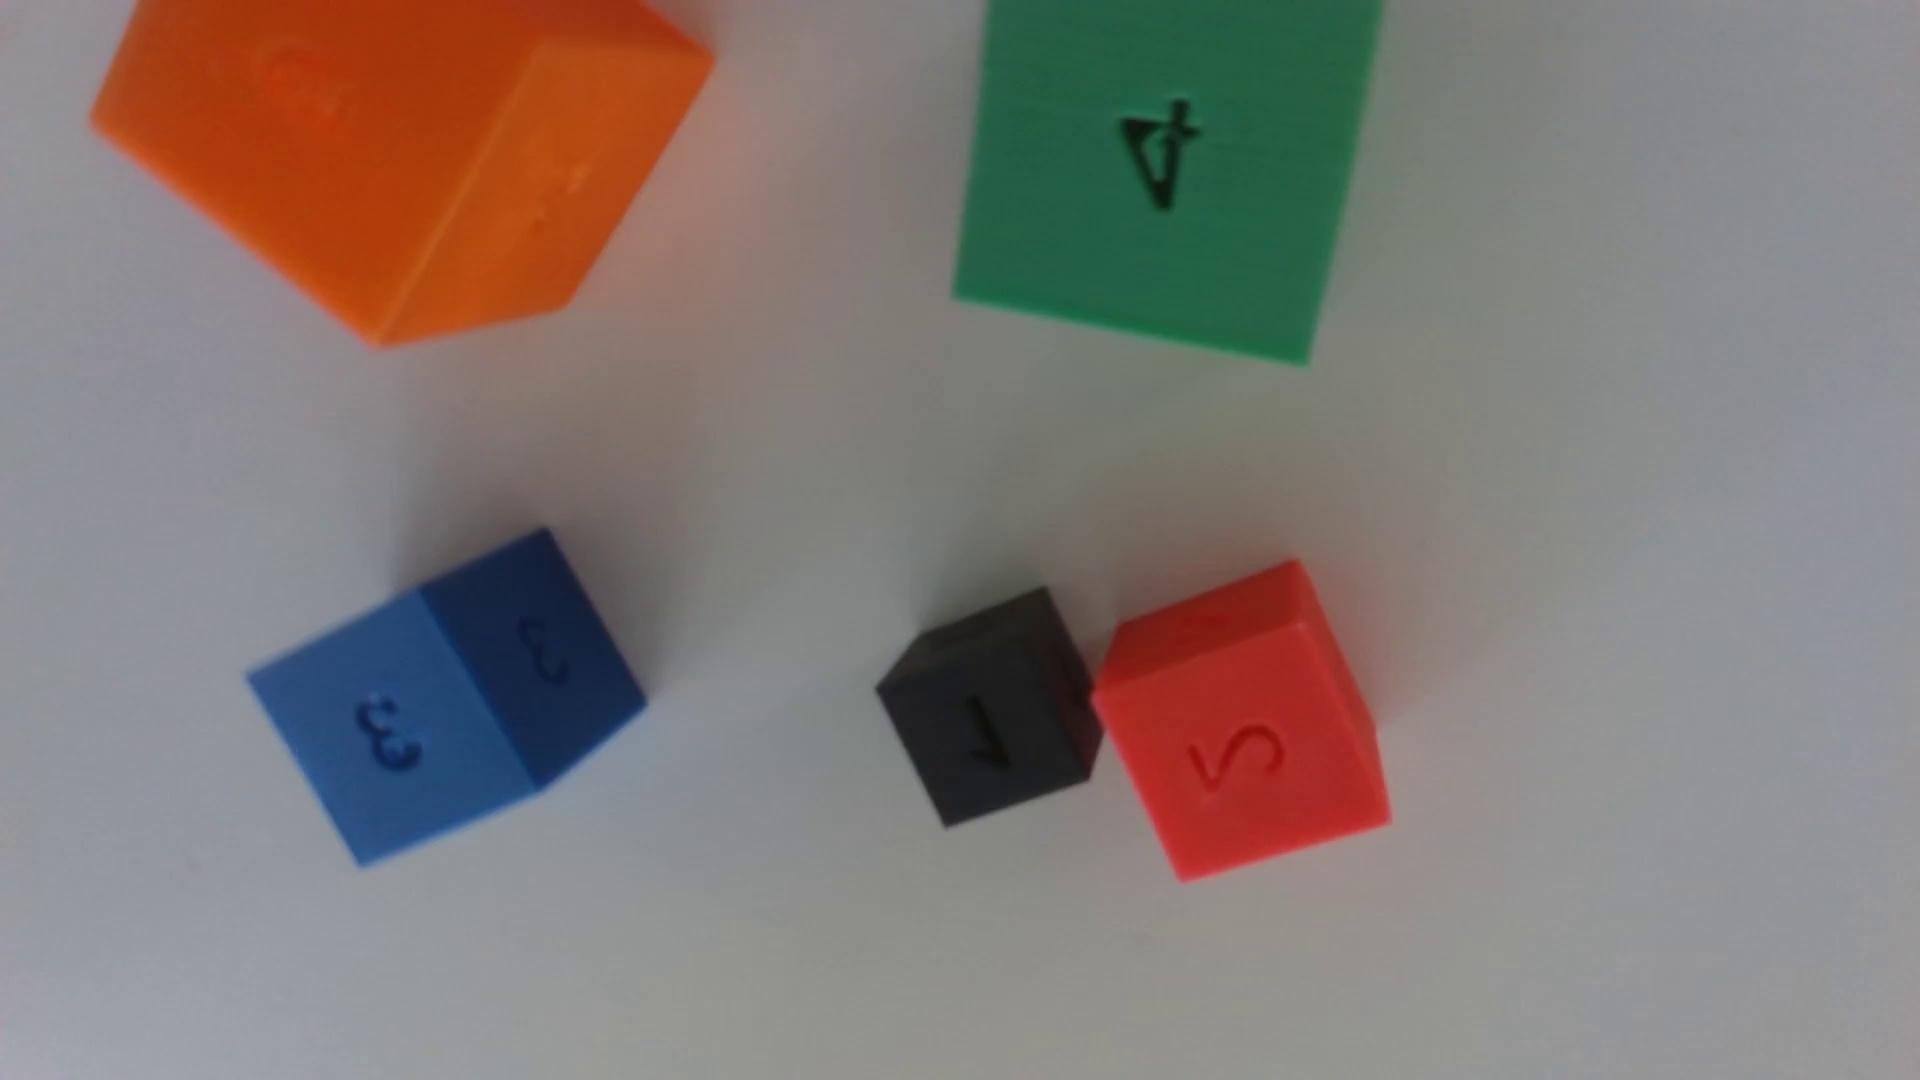black: (876, 588, 1102, 825)
blue: (248, 529, 646, 864)
green: (953, 0, 1379, 363)
orange: (92, 0, 713, 345)
red: (1095, 560, 1390, 880)
